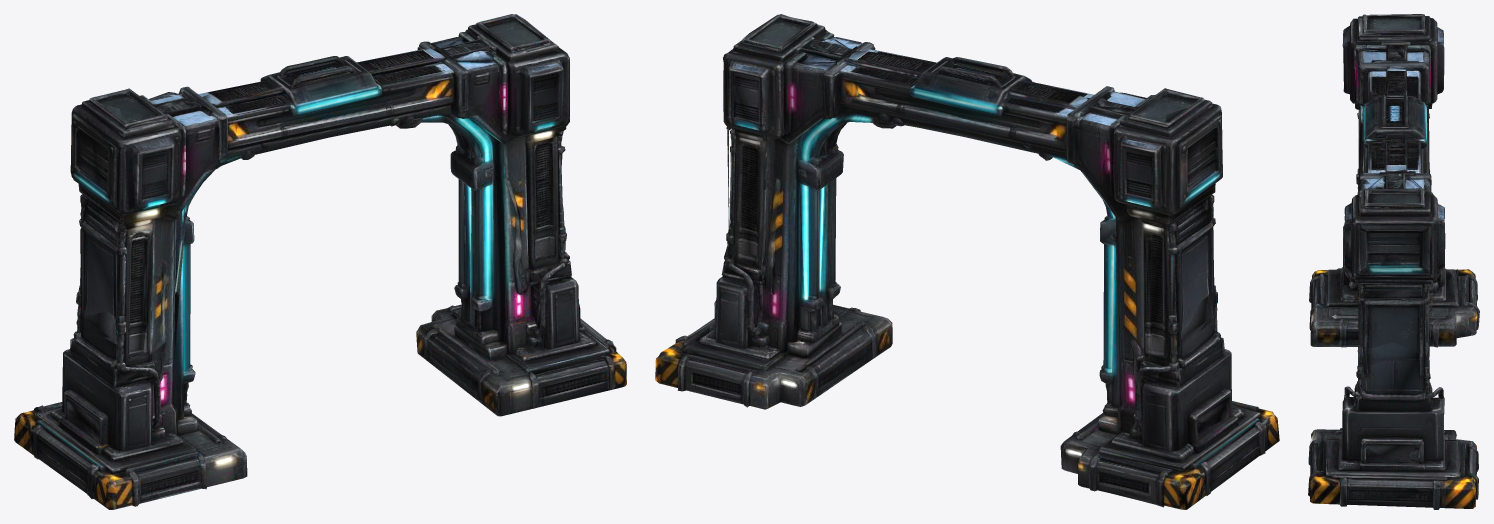
The model's file is extraction-gate-v2.glb.
3 renders of one model, left to right at view 1: azimuth 30°, elevation 25°; view 2: azimuth 150°, elevation 25°; view 3: azimuth 270°, elevation 25°, orthographic. The views are drawn at different scales.
Parts seen in each view (by area): view 1: Mesh_0; view 2: Mesh_0; view 3: Mesh_0.
Boxes of the visible parts, x1,y1,x2,y2 form: Mesh_0: (14, 14, 626, 509); Mesh_0: (655, 14, 1279, 509); Mesh_0: (1308, 14, 1479, 509).
Bounding box in the file's own units: 6.24 × 4 × 2.09.
1 material, 1 textured.
